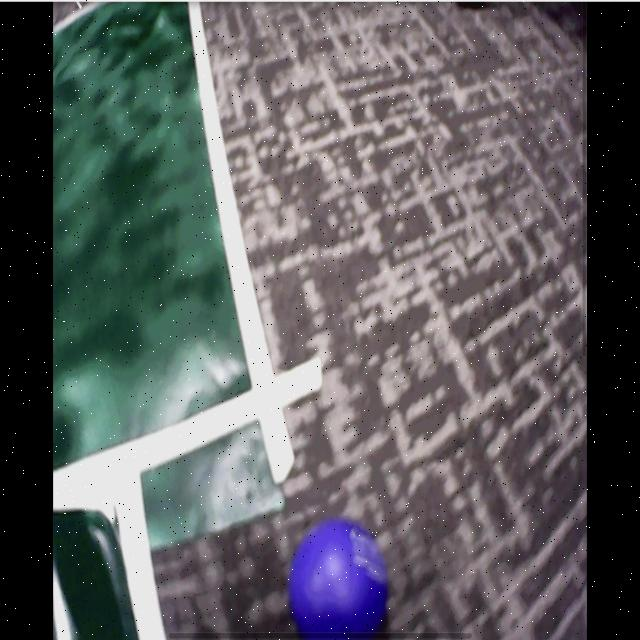ball: (289, 519, 388, 636)
